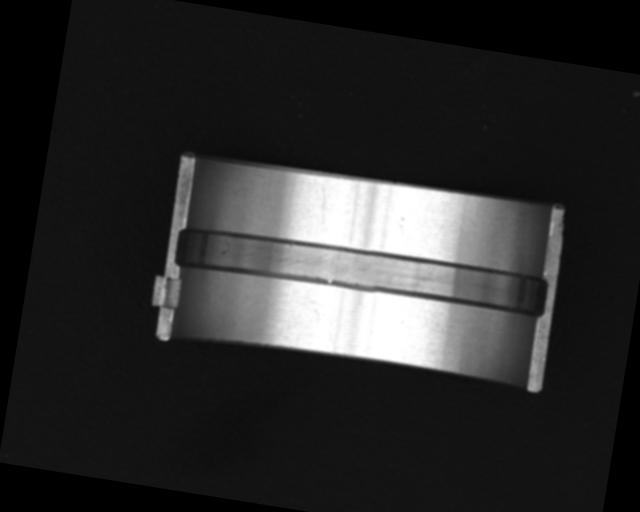gap: (175, 218, 552, 324)
nick: (316, 186, 331, 223)
